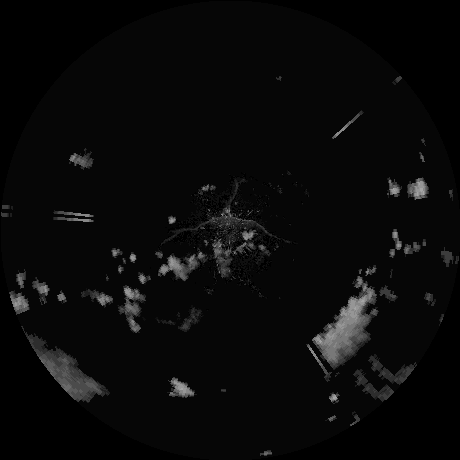frontgust: (185, 213, 268, 239)
